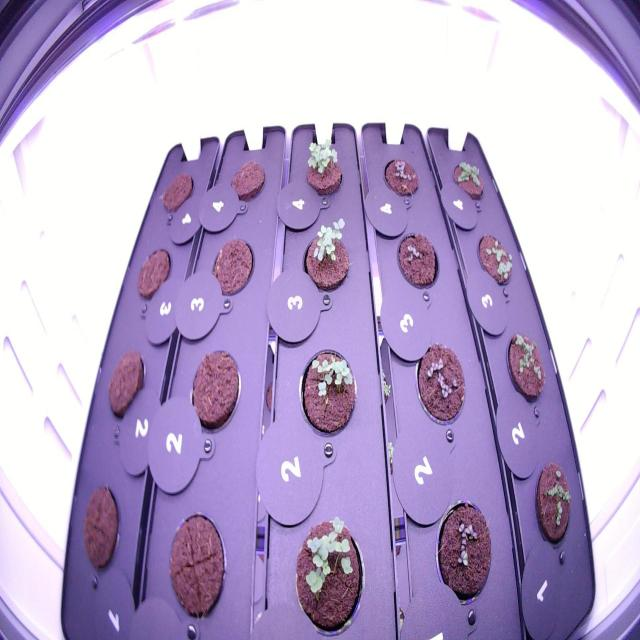germination: (287, 506, 371, 640), (429, 490, 496, 610), (295, 340, 365, 443), (410, 335, 471, 440), (528, 450, 577, 558), (296, 211, 354, 302), (499, 324, 550, 412), (392, 223, 442, 298), (470, 224, 518, 296), (298, 132, 348, 201), (376, 149, 424, 206), (446, 154, 491, 206)
pod: (164, 502, 232, 627), (182, 341, 245, 439), (78, 480, 122, 581), (102, 344, 150, 426), (206, 230, 257, 304), (132, 240, 174, 306), (223, 155, 269, 214), (157, 165, 196, 220)
